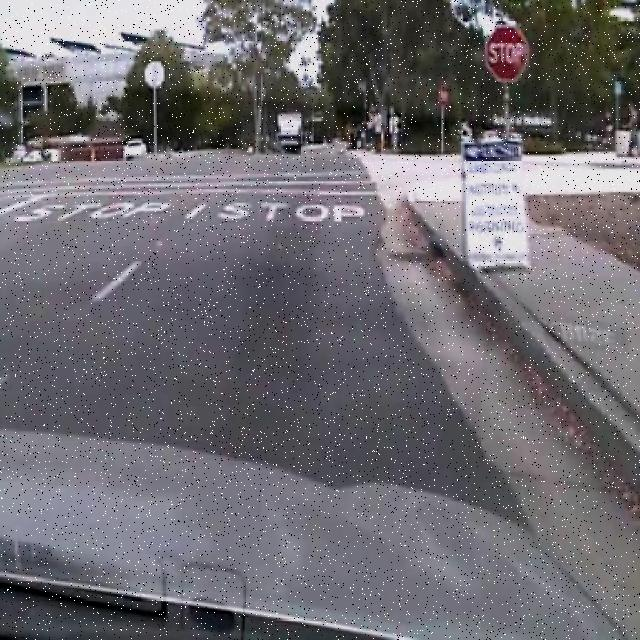Stop: (483, 26, 531, 86)
